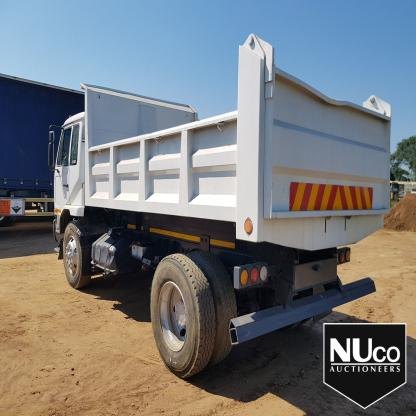dump_truck: (49, 32, 395, 386)
